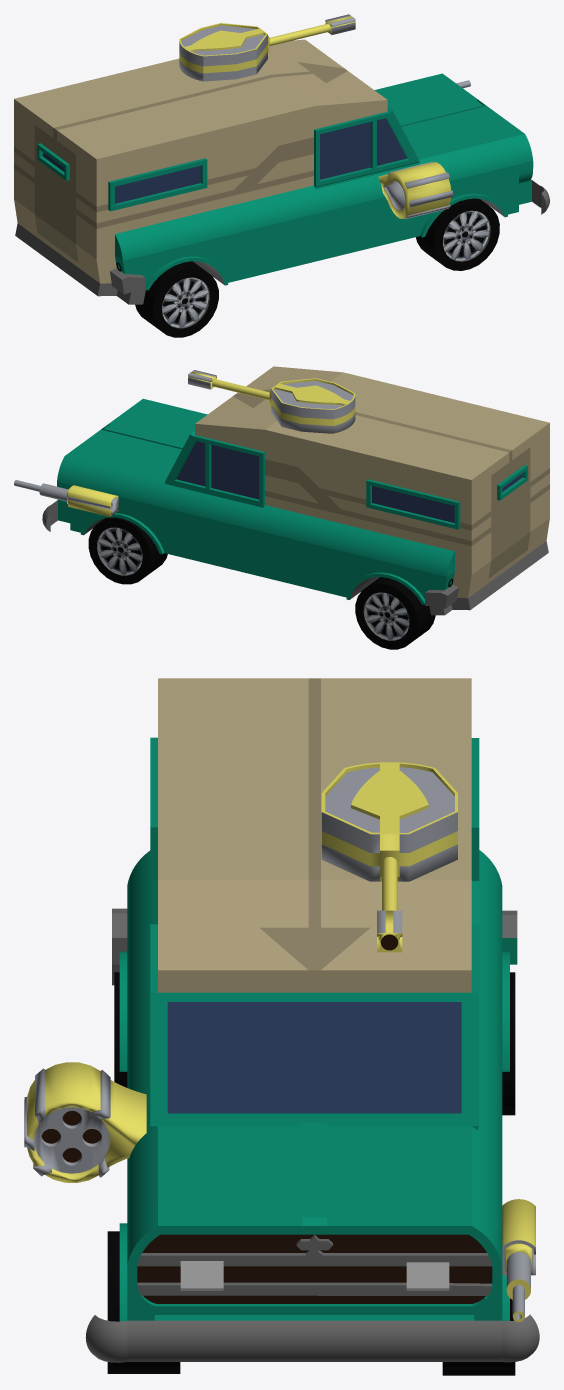
File: Beezy.fbx
3 views of the same model, one above another, from view 1: azimuth 30°, elevation 25°; view 2: azimuth 150°, elevation 25°; view 3: azimuth 270°, elevation 25° (orthographic). The views are drawn at different scales.
Parts seen in each view (by area): view 1: Group4, skpBF24_1, skpAE7F4, skpAE7F3, skp895C1; view 2: Group4, skpBF24_1, skpAE7F1, skpAE7F2, skp9610_1; view 3: Group4, skpBF24_1, skp895C1, skp9610_1, skpAE7F3, skpAE7F1, skpAE7F2.
Part boxes in pixels (box(x1,y1,x2,y2)): Group4: box(14, 39, 549, 304); skpBF24_1: box(179, 14, 355, 81); skpAE7F4: box(135, 261, 218, 337); skpAE7F3: box(416, 198, 499, 270); skp895C1: box(378, 161, 452, 218); Group4: box(42, 366, 549, 615); skpBF24_1: box(188, 370, 355, 433); skpAE7F1: box(355, 577, 435, 649); skpAE7F2: box(88, 517, 167, 584); skp9610_1: box(14, 480, 118, 516); Group4: box(85, 678, 539, 1362); skpBF24_1: box(321, 762, 457, 952); skp895C1: box(24, 1062, 146, 1182); skp9610_1: box(502, 1199, 535, 1322); skpAE7F3: box(107, 1231, 180, 1373); skpAE7F1: box(502, 972, 515, 1115); skpAE7F2: box(442, 1298, 515, 1375).
Size of the model in its own units: 7.7 by 3.39 by 3.84.
